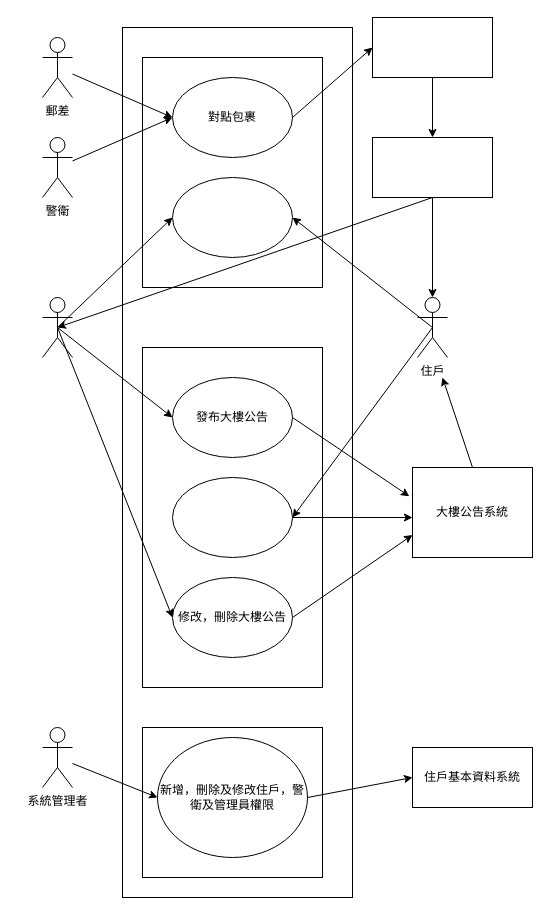
Image size: 550x915. Some labels were removed from this diagram. Each missing label, with the centre of its shape:
住戶(大樓委員): point 57,327
包裹簽收系統: point 432,47
包裹通知系統: point 432,167
回應大樓公告: point 232,517
領取包裹: point 232,217
